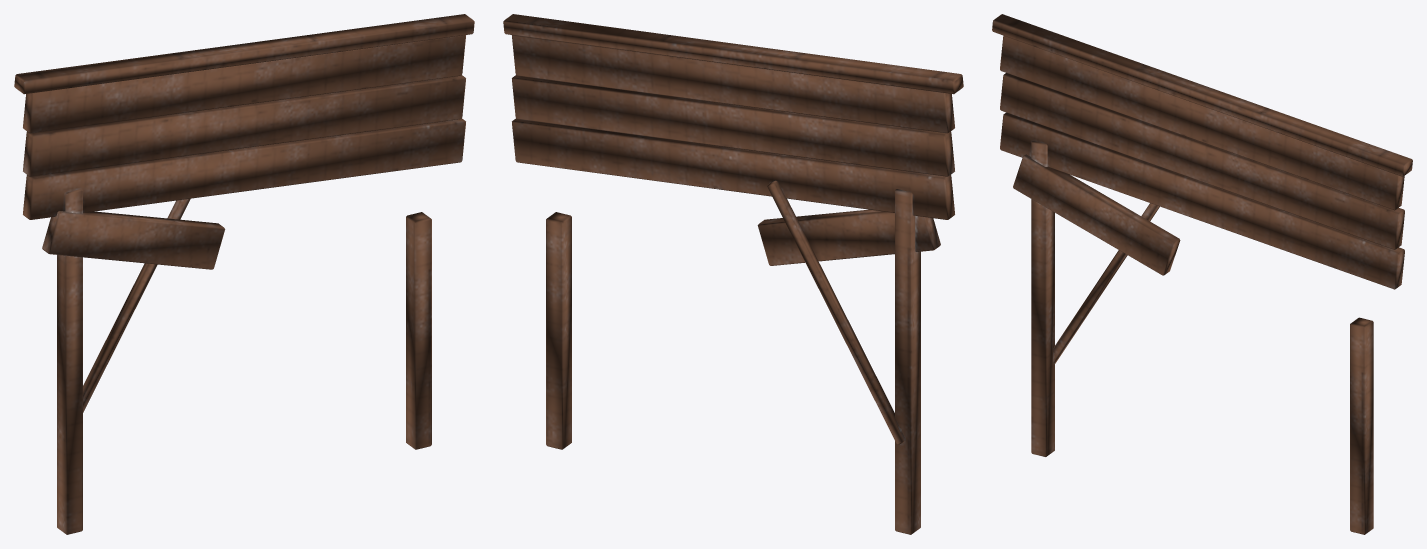
File: Prop_Cartel.fbx
3 renders of one model, left to right at view 1: azimuth 30°, elevation 25°; view 2: azimuth 150°, elevation 25°; view 3: azimuth 330°, elevation 25°, orthographic. The views are drawn at different scales.
Parts seen in each view (by area): view 1: Prop_Cartel; view 2: Prop_Cartel; view 3: Prop_Cartel.
Boxes of the visible parts, <box> form: Prop_Cartel: <box>14,14,474,534</box>; Prop_Cartel: <box>503,14,963,534</box>; Prop_Cartel: <box>992,14,1412,534</box>.
Bounding box in the file's own units: 10.37 × 10.19 × 0.55.
